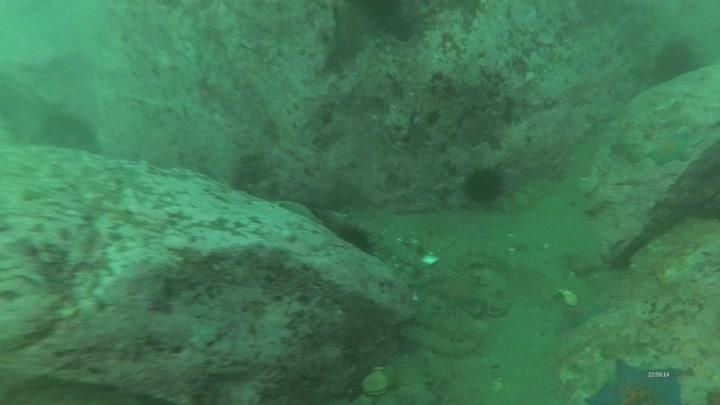echinus: (651, 38, 699, 84), (461, 164, 508, 207), (332, 219, 379, 257)
holothurian: (398, 318, 486, 360), (501, 172, 564, 215)
scallop: (358, 364, 394, 399)
starfish: (583, 357, 685, 404), (428, 273, 482, 313), (551, 297, 612, 332), (645, 130, 693, 168), (275, 198, 320, 224)
